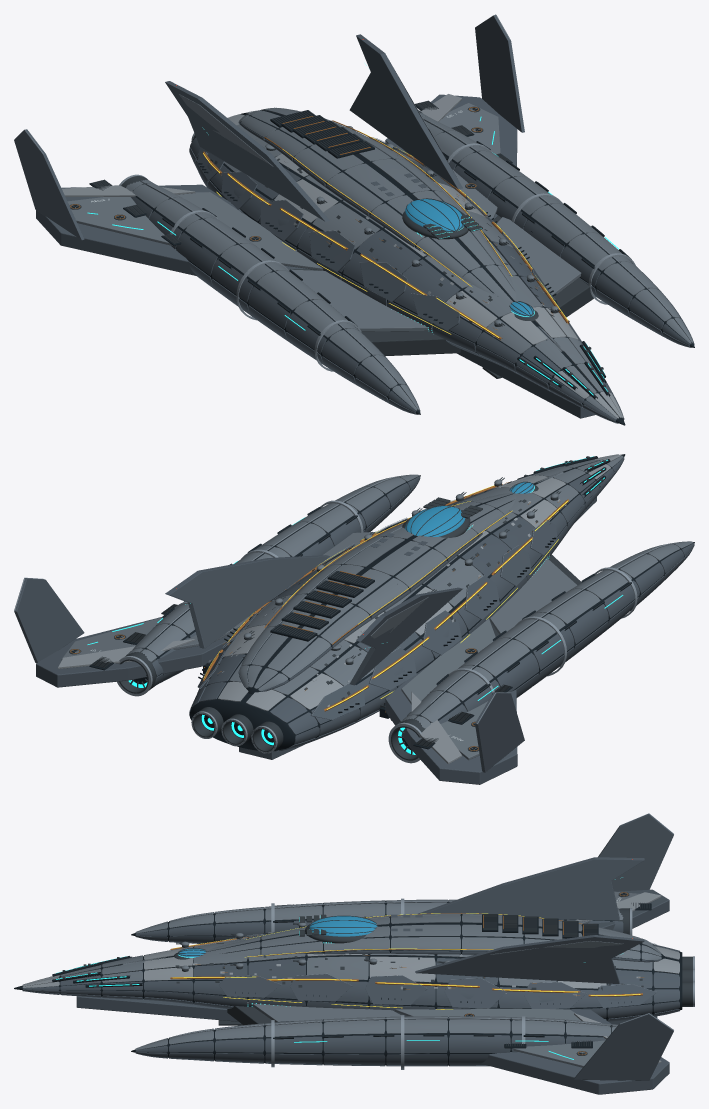
The model's file is 01_Titan_Aegis.glb.
3 views of the same model, one above another, from view 1: azimuth 30°, elevation 25°; view 2: azimuth 150°, elevation 25°; view 3: azimuth 270°, elevation 25° (orthographic). The views are drawn at different scales.
Visible parts, largest first — view 1: 01_Titan_Aegis; view 2: 01_Titan_Aegis; view 3: 01_Titan_Aegis.
Boxes of the visible parts, left/top/right/bottom form: 01_Titan_Aegis: left=14, top=14, right=694, bottom=425; 01_Titan_Aegis: left=14, top=454, right=694, bottom=784; 01_Titan_Aegis: left=14, top=813, right=694, bottom=1094.
Bounding box in the file's own units: 1137 × 343 × 1630.
